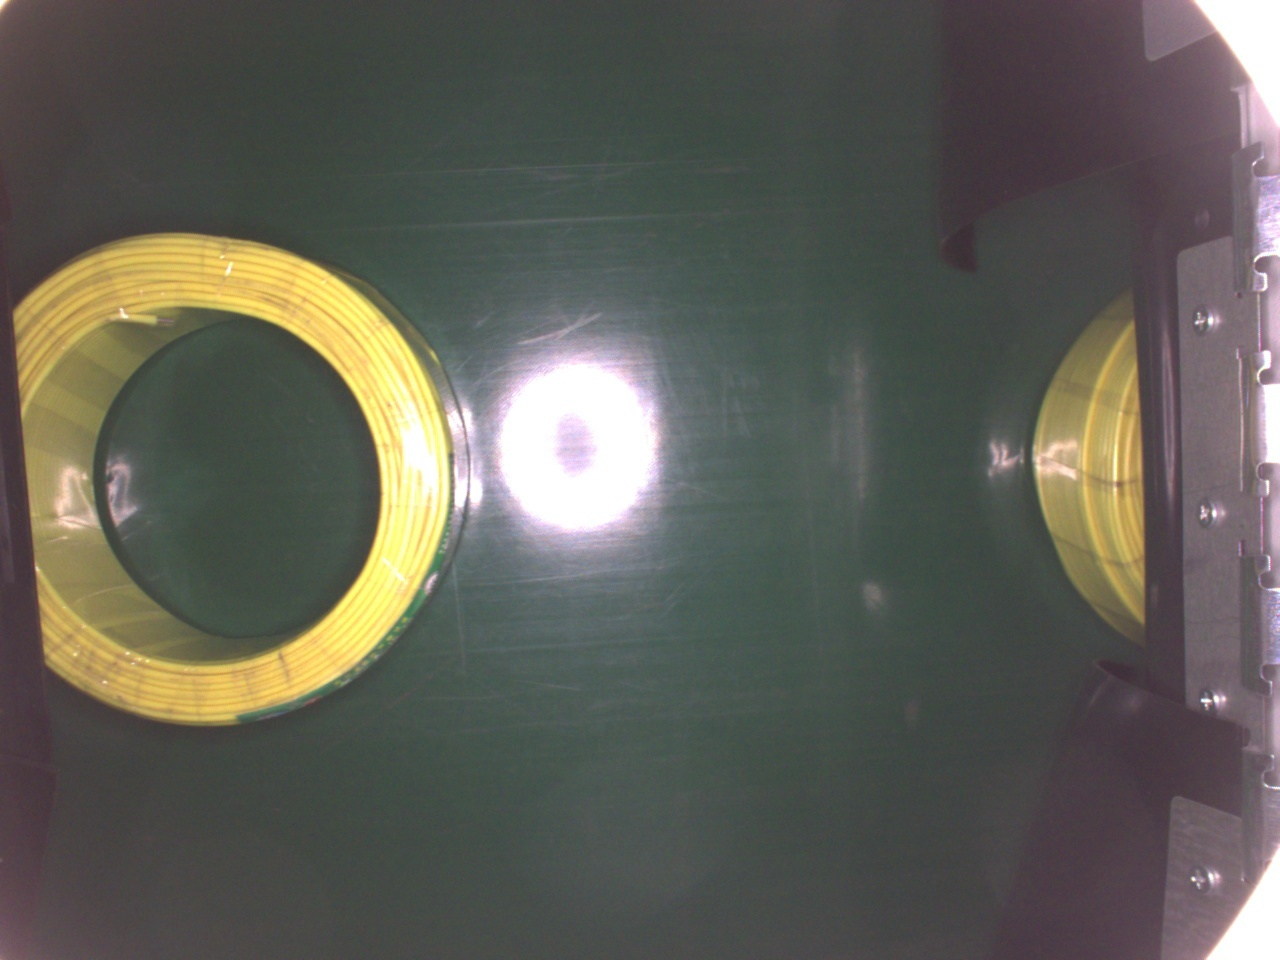yellow: (14, 232, 471, 726)
